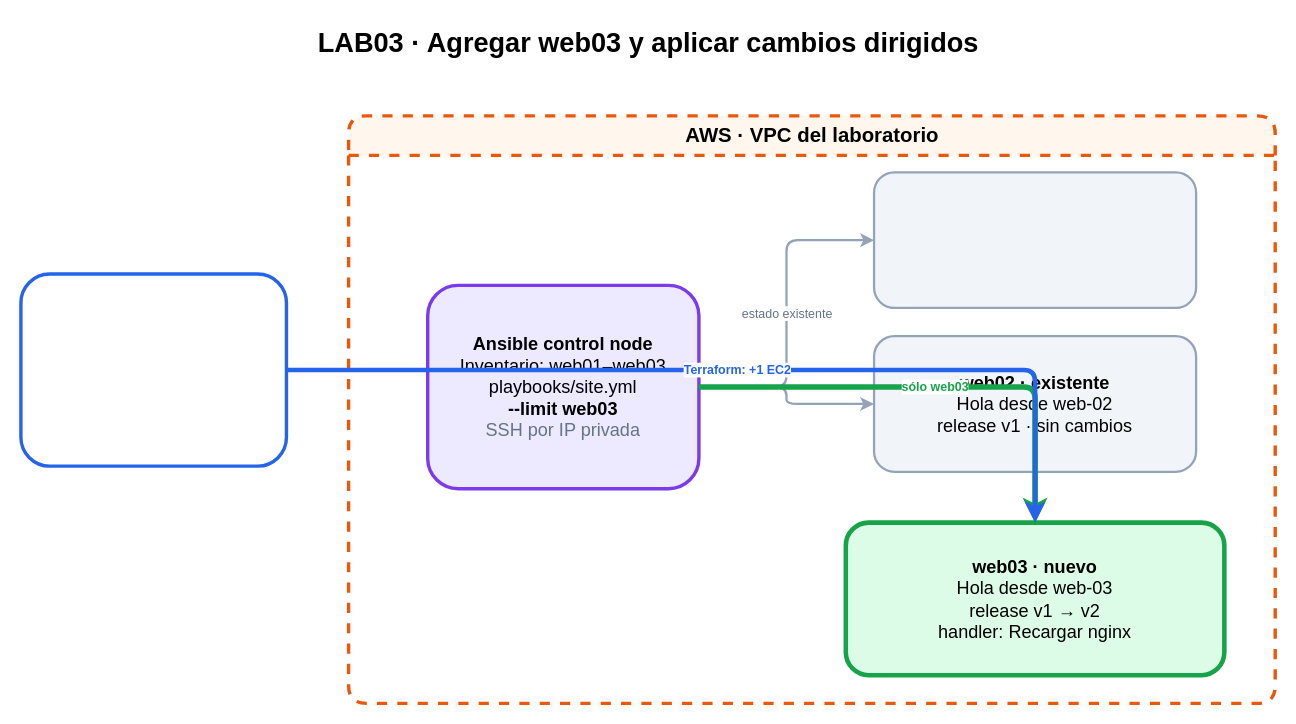
Some shapes in this 1296 by 724 pixel diagram are drawn without their labels. The centre of each missing label's shape, as x and y in pixels:
"Notebook Terraform outputs + inventario SSH / SCP State local" belongs at (153,369).
"web01 · existente Hola desde web-01 release v1 · sin cambios" belongs at (1034,239).
